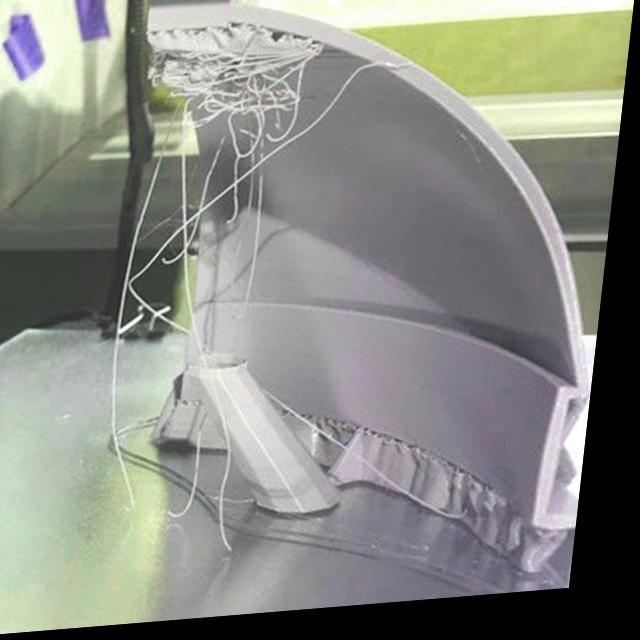spaghetti: (103, 42, 326, 568)
